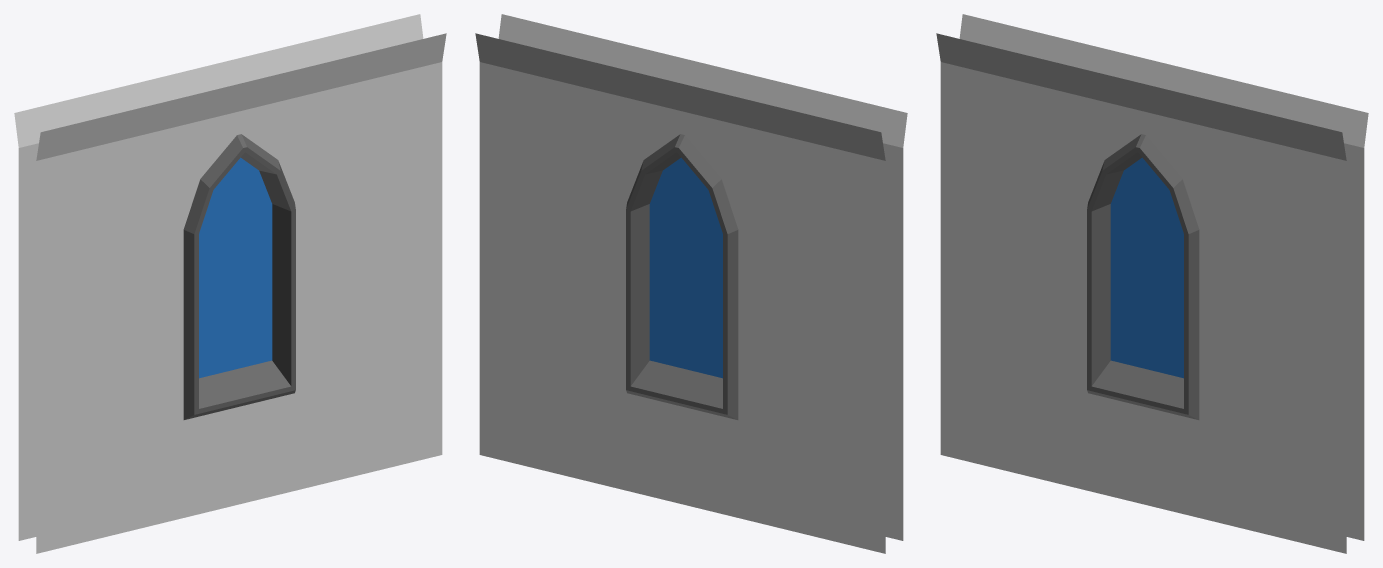
File: ChurchWindow.FBX
3 renders of one model, left to right at view 1: azimuth 30°, elevation 25°; view 2: azimuth 150°, elevation 25°; view 3: azimuth 330°, elevation 25°, orthographic.
Parts seen in each view (by area): view 1: ChurchWall, ChurchWindow, WindowFrame; view 2: ChurchWall, ChurchWindow, WindowFrame; view 3: ChurchWall, ChurchWindow, WindowFrame.
Boxes of the visible parts, box(x1,y1,x2,y2) form: ChurchWall: box(14, 14, 446, 553); ChurchWindow: box(199, 157, 272, 378); WindowFrame: box(183, 134, 295, 419); ChurchWall: box(475, 14, 907, 553); ChurchWindow: box(649, 157, 722, 378); WindowFrame: box(626, 134, 738, 419); ChurchWall: box(936, 14, 1368, 553); ChurchWindow: box(1110, 157, 1183, 378); WindowFrame: box(1087, 134, 1199, 419).
Size of the model in its own units: 400 by 400 by 50.
